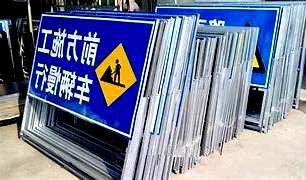sign: (26, 17, 158, 132)
